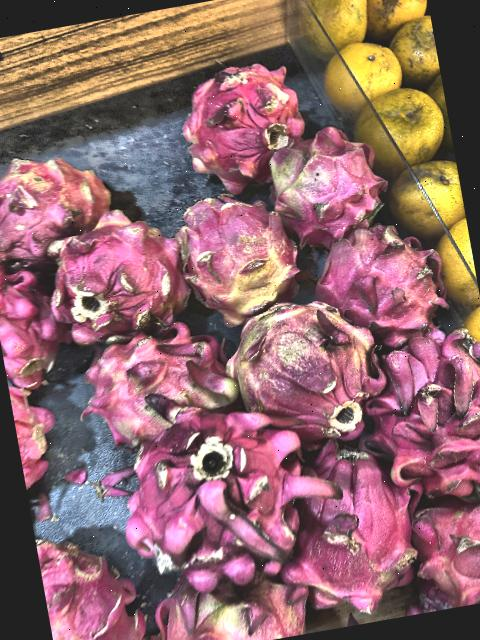buah-naga-belum-matang: (223, 284, 390, 446), (156, 170, 308, 318), (44, 202, 194, 332), (75, 322, 239, 436), (264, 128, 399, 248), (139, 552, 319, 640), (0, 147, 109, 247)
buah-naga-matang: (94, 396, 330, 584), (286, 435, 428, 611), (354, 317, 480, 500), (304, 210, 454, 347), (170, 56, 318, 182), (34, 519, 159, 640), (394, 467, 480, 613), (0, 252, 74, 404), (9, 383, 66, 489)
